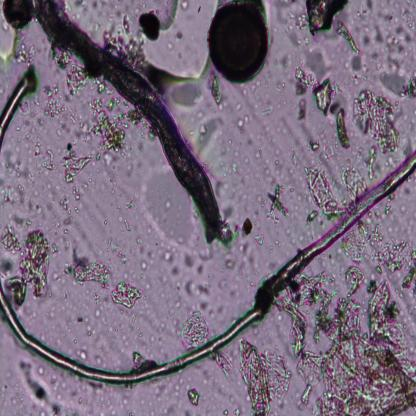Air bubble: (138, 1, 219, 78)
Background material: (303, 294, 416, 415), (138, 172, 198, 249), (236, 335, 294, 414), (0, 220, 49, 309), (275, 277, 323, 352), (351, 87, 403, 156), (364, 4, 414, 65), (44, 186, 87, 254), (13, 359, 62, 415), (375, 231, 416, 291), (293, 64, 341, 115), (87, 94, 129, 152), (301, 162, 344, 218), (383, 37, 416, 100), (340, 222, 388, 265), (336, 149, 378, 194), (305, 1, 353, 36), (339, 19, 366, 78), (106, 29, 146, 67), (58, 379, 99, 416), (277, 0, 306, 52), (69, 256, 110, 289), (179, 305, 209, 347), (272, 52, 295, 105), (252, 144, 282, 184), (194, 114, 227, 150), (64, 142, 92, 184), (166, 78, 204, 107), (225, 241, 256, 276), (112, 278, 142, 314), (263, 181, 291, 219), (226, 137, 250, 178), (332, 102, 352, 151), (136, 8, 164, 42), (101, 314, 128, 349), (229, 95, 252, 136), (187, 278, 213, 314), (302, 47, 328, 81), (147, 385, 175, 416), (103, 389, 135, 416), (53, 108, 83, 136), (102, 154, 122, 196), (40, 86, 66, 118), (105, 238, 131, 270), (124, 140, 144, 178), (106, 4, 129, 37), (183, 247, 209, 276), (207, 70, 226, 106), (31, 143, 53, 172), (65, 66, 88, 93), (344, 266, 366, 293), (74, 310, 98, 334), (0, 369, 14, 410), (378, 192, 398, 220), (50, 47, 71, 73), (130, 106, 151, 132), (406, 107, 416, 155), (70, 0, 99, 16), (214, 352, 234, 375), (130, 315, 146, 342), (92, 290, 112, 310), (50, 266, 70, 286), (285, 224, 304, 245), (255, 101, 275, 120), (238, 215, 254, 238), (288, 146, 301, 174), (19, 42, 38, 60), (294, 98, 308, 122), (184, 385, 199, 407), (219, 280, 238, 297), (213, 305, 229, 324), (74, 344, 90, 362), (131, 349, 146, 368), (253, 191, 266, 211), (221, 200, 237, 216), (124, 191, 136, 212), (121, 215, 134, 234), (216, 175, 226, 199), (159, 249, 174, 265), (254, 231, 266, 250), (93, 353, 106, 370), (367, 277, 379, 295), (46, 305, 57, 324), (327, 268, 338, 286), (168, 265, 181, 280), (268, 238, 284, 250), (308, 138, 321, 152), (135, 260, 151, 271), (60, 286, 70, 303), (34, 201, 42, 222), (171, 27, 185, 38), (397, 199, 408, 213), (291, 138, 303, 150), (180, 0, 190, 12), (146, 338, 156, 350), (228, 391, 235, 407), (136, 232, 145, 244), (233, 405, 242, 416), (63, 329, 71, 340), (96, 309, 102, 320), (222, 408, 228, 416), (73, 338, 77, 346)
Cellulose filter fibre: (35, 0, 234, 247)
Diatom: (207, 6, 270, 85), (1, 0, 35, 30)
Microfibre: (0, 153, 416, 387), (0, 65, 39, 150)
